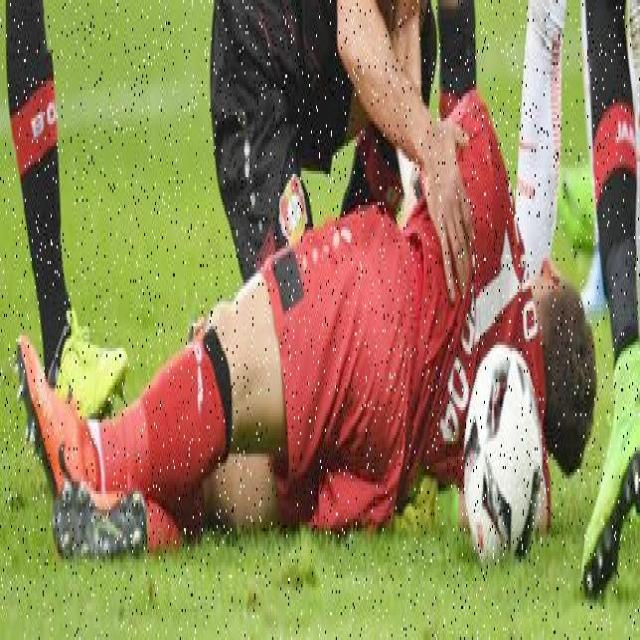fall: (25, 168, 590, 547)
